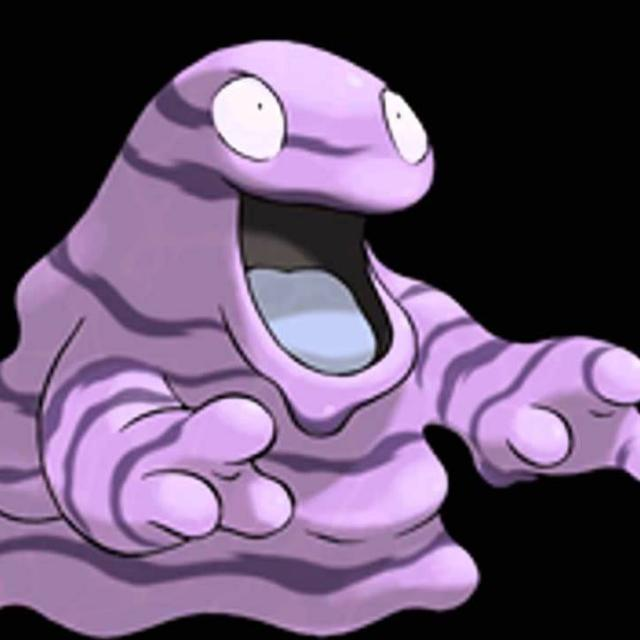Grimer: (0, 29, 640, 640)
